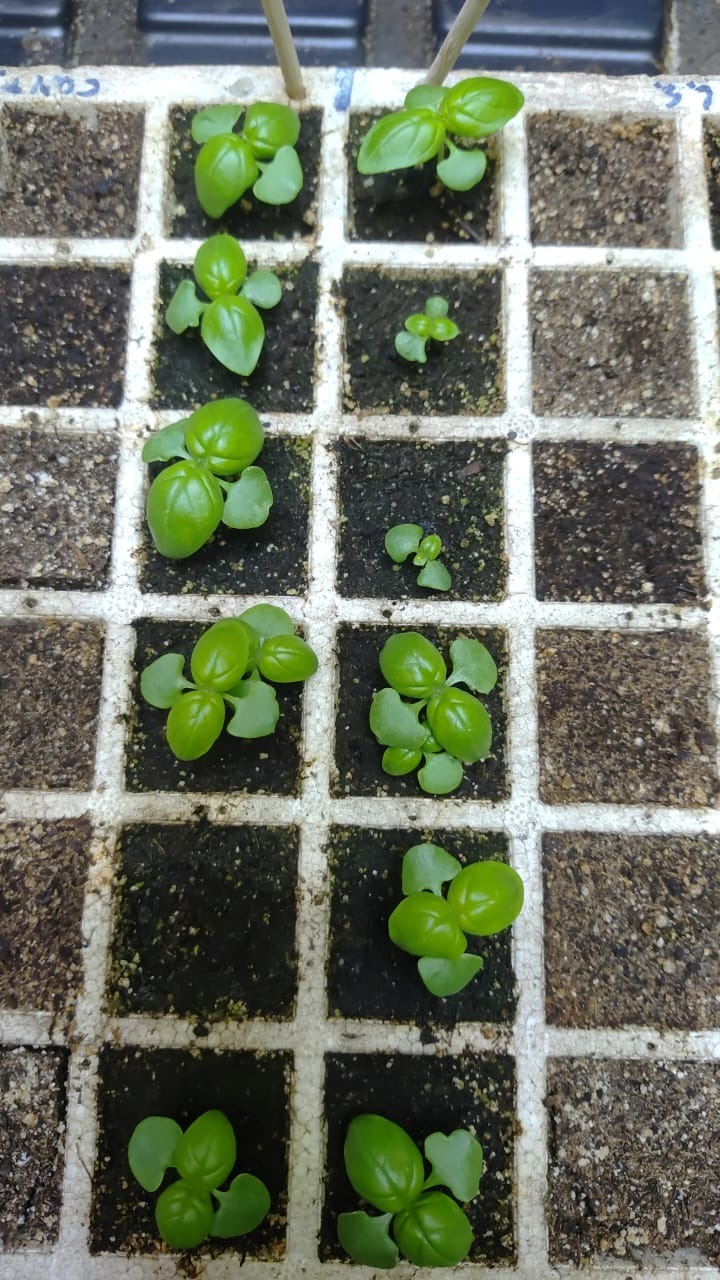Folha: (139, 602, 322, 763), (336, 1112, 486, 1274), (379, 833, 526, 996), (136, 393, 275, 562), (123, 1105, 272, 1253), (353, 74, 525, 194), (186, 98, 306, 218), (365, 627, 441, 708), (382, 521, 453, 591), (393, 293, 462, 364), (368, 687, 422, 743), (449, 635, 499, 693), (421, 955, 484, 998), (139, 652, 185, 707), (419, 752, 462, 795), (379, 744, 425, 777)
Germinacao: (301, 1029, 503, 1280), (113, 1030, 311, 1273), (138, 602, 329, 786), (349, 805, 496, 1040), (347, 610, 506, 818), (136, 403, 294, 582), (161, 229, 297, 409), (347, 70, 531, 198), (182, 94, 310, 222), (381, 523, 452, 590), (394, 294, 460, 361)
